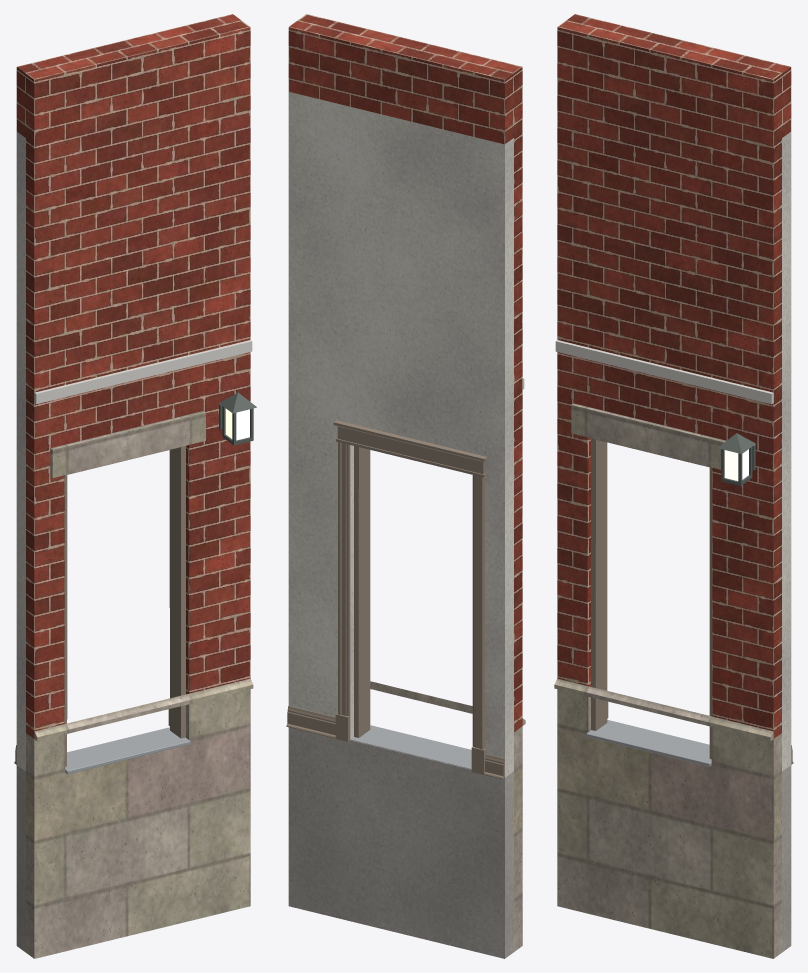
Rendered from b_door_l.glb.
The picture shows the model from 3 angles, left to right: view 1: azimuth 30°, elevation 25°; view 2: azimuth 150°, elevation 25°; view 3: azimuth 330°, elevation 25°; orthographic projection.
Parts seen in each view (by area): view 1: b_door_l_brick, b_door_l_stone, b_door_l_plaster, b_door_l_trim, b_door_l_coping, b_door_l_steel, b_door_l_concrete, b_door_l_iron, b_door_l_lamp_glass; view 2: b_door_l_plaster, b_door_l_concrete, b_door_l_brick, molduras, b_door_l_trim, b_door_l_stone, b_door_l_steel; view 3: b_door_l_brick, b_door_l_stone, b_door_l_plaster, b_door_l_trim, b_door_l_coping, b_door_l_steel, b_door_l_concrete, b_door_l_iron, b_door_l_lamp_glass.
Boxes of the visible parts, bbox=[...] form: b_door_l_brick: bbox=[16, 14, 250, 738]; b_door_l_stone: bbox=[26, 411, 253, 958]; b_door_l_plaster: bbox=[16, 132, 25, 771]; b_door_l_trim: bbox=[64, 446, 185, 766]; b_door_l_coping: bbox=[34, 340, 252, 404]; b_door_l_steel: bbox=[65, 727, 190, 774]; b_door_l_concrete: bbox=[16, 765, 25, 952]; b_door_l_iron: bbox=[219, 392, 256, 445]; b_door_l_lamp_glass: bbox=[225, 408, 249, 440]; b_door_l_plaster: bbox=[288, 92, 513, 777]; b_door_l_concrete: bbox=[288, 727, 513, 958]; b_door_l_brick: bbox=[288, 14, 522, 731]; molduras: bbox=[286, 420, 504, 779]; b_door_l_trim: bbox=[354, 446, 472, 746]; b_door_l_stone: bbox=[370, 681, 525, 951]; b_door_l_steel: bbox=[351, 725, 471, 769]; b_door_l_brick: bbox=[557, 14, 791, 738]; b_door_l_stone: bbox=[554, 403, 781, 958]; b_door_l_plaster: bbox=[782, 132, 791, 771]; b_door_l_trim: bbox=[591, 438, 712, 759]; b_door_l_coping: bbox=[555, 340, 773, 404]; b_door_l_steel: bbox=[586, 720, 711, 766]; b_door_l_concrete: bbox=[782, 765, 791, 952]; b_door_l_iron: bbox=[717, 433, 755, 485]; b_door_l_lamp_glass: bbox=[724, 449, 748, 480].
Bounding box in the file's own units: 1.75 × 6.8 × 0.562.
Materials: 9 (4 with a texture image).
